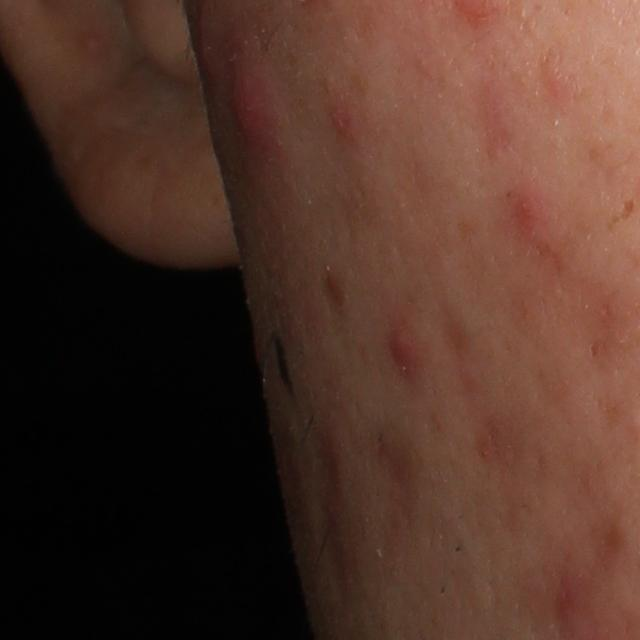nevus: (270, 334, 302, 405)
papule: (221, 48, 292, 158), (379, 317, 424, 382), (514, 188, 548, 246), (329, 104, 358, 137)
